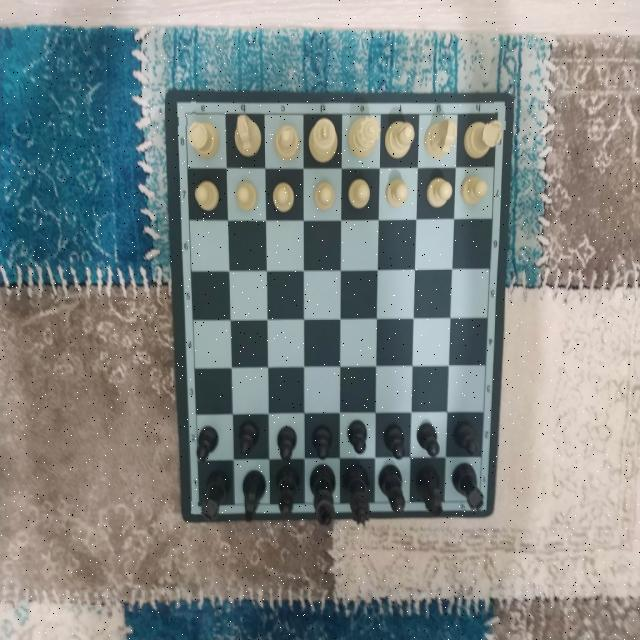corner: (486, 99, 508, 131), (174, 100, 196, 126), (191, 496, 208, 514)
